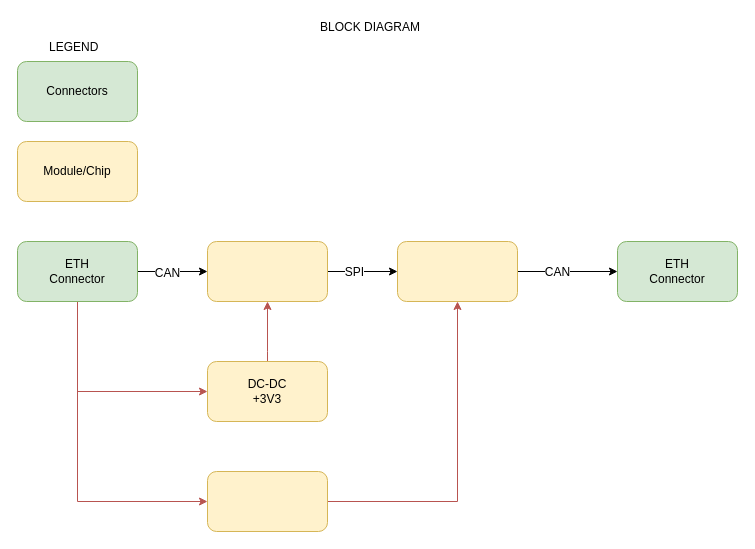
Image size: 755x549. Some labels were removed from this diagram. The shapes that lost their labels are listed below. From the top down, each one's centre as x and y in pixels, then its label:
At point 267,271: "Lora".
At point 457,271: "MCP25625".
At point 267,501: "DC-DC +5V".
